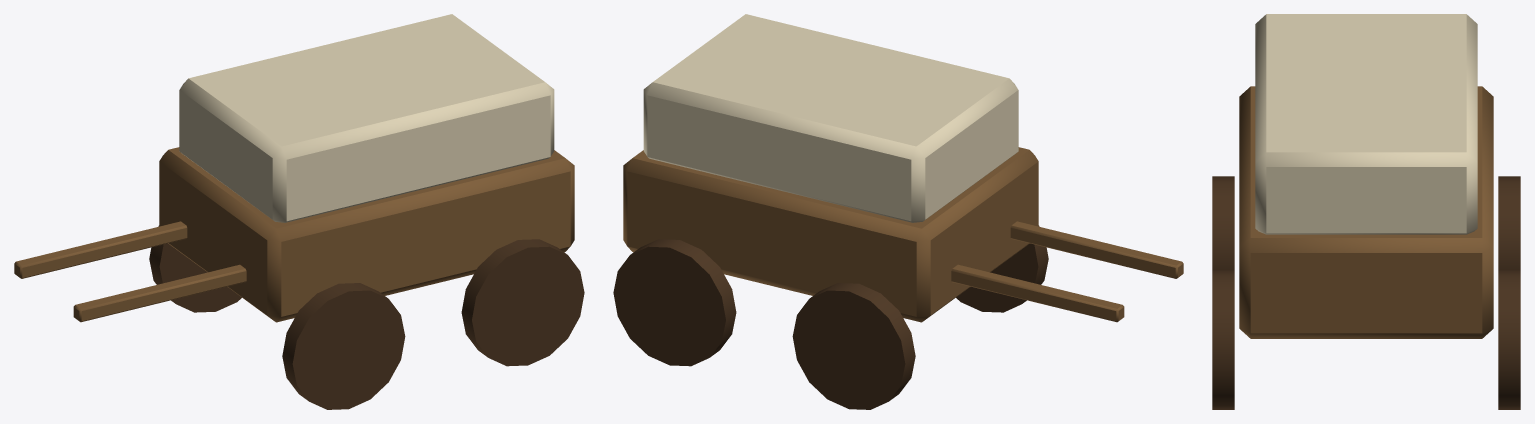
Rendered from cart.glb.
The picture shows the model from 3 angles, left to right: view 1: azimuth 30°, elevation 25°; view 2: azimuth 150°, elevation 25°; view 3: azimuth 270°, elevation 25°; orthographic projection. The views are drawn at different scales.
Visible parts, largest first — view 1: building; view 2: building; view 3: building.
Part boxes in pixels (<box>): building: <box>14,14,584,409</box>; building: <box>613,14,1183,409</box>; building: <box>1212,14,1520,409</box>.
Bounding box in the file's own units: 1.85 × 0.95 × 0.97.
